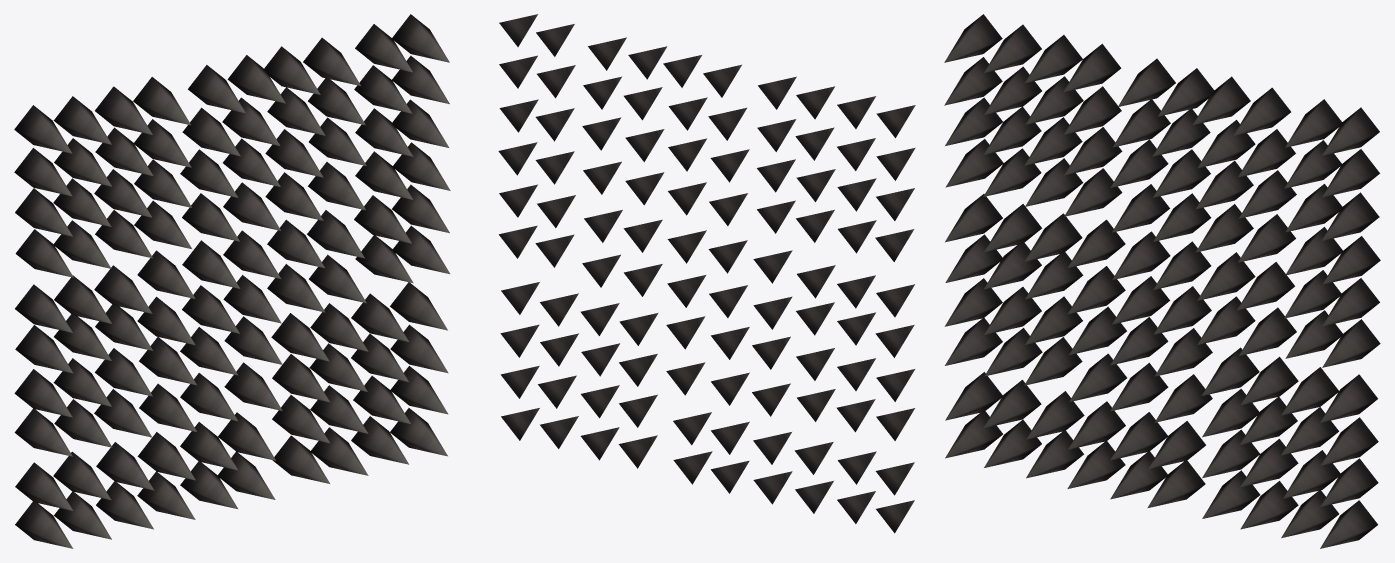
Rendered from spikes_5x5.glb.
The picture shows the model from 3 angles, left to right: view 1: azimuth 30°, elevation 25°; view 2: azimuth 150°, elevation 25°; view 3: azimuth 330°, elevation 25°; orthographic projection.
Parts seen in each view (by area): view 1: spikes.spikes_5x5-Mesh[0]; view 2: spikes.spikes_5x5-Mesh[0]; view 3: spikes.spikes_5x5-Mesh[0].
Boxes of the visible parts, box(x1,y1,x2,y2) form: spikes.spikes_5x5-Mesh[0]: box(14, 14, 450, 548); spikes.spikes_5x5-Mesh[0]: box(498, 14, 915, 533); spikes.spikes_5x5-Mesh[0]: box(944, 14, 1380, 548).
Bounding box in the file's own units: 4.88 × 4.88 × 0.8.
Materials: 1 (1 with a texture image).
